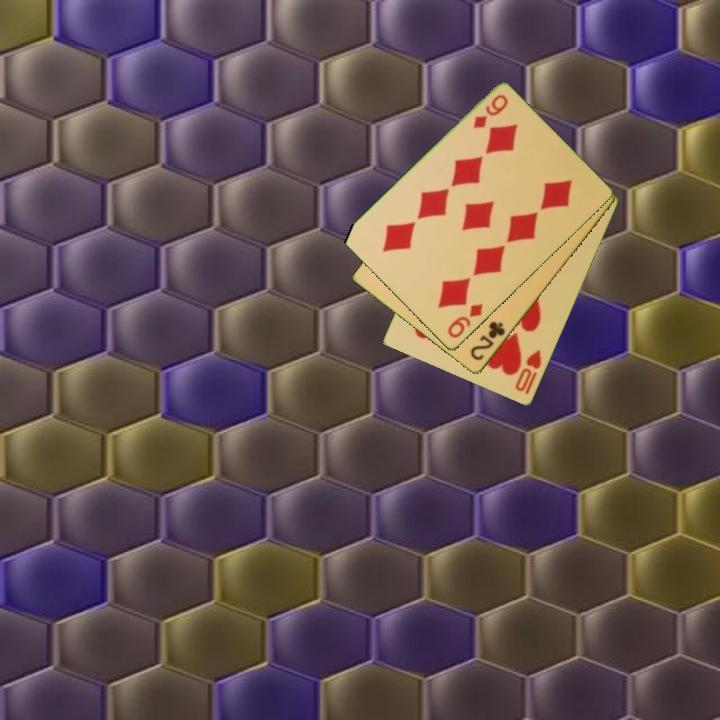10h: (512, 347, 545, 395)
2c: (467, 318, 508, 364)
9d: (444, 300, 486, 342), (470, 91, 511, 132)
